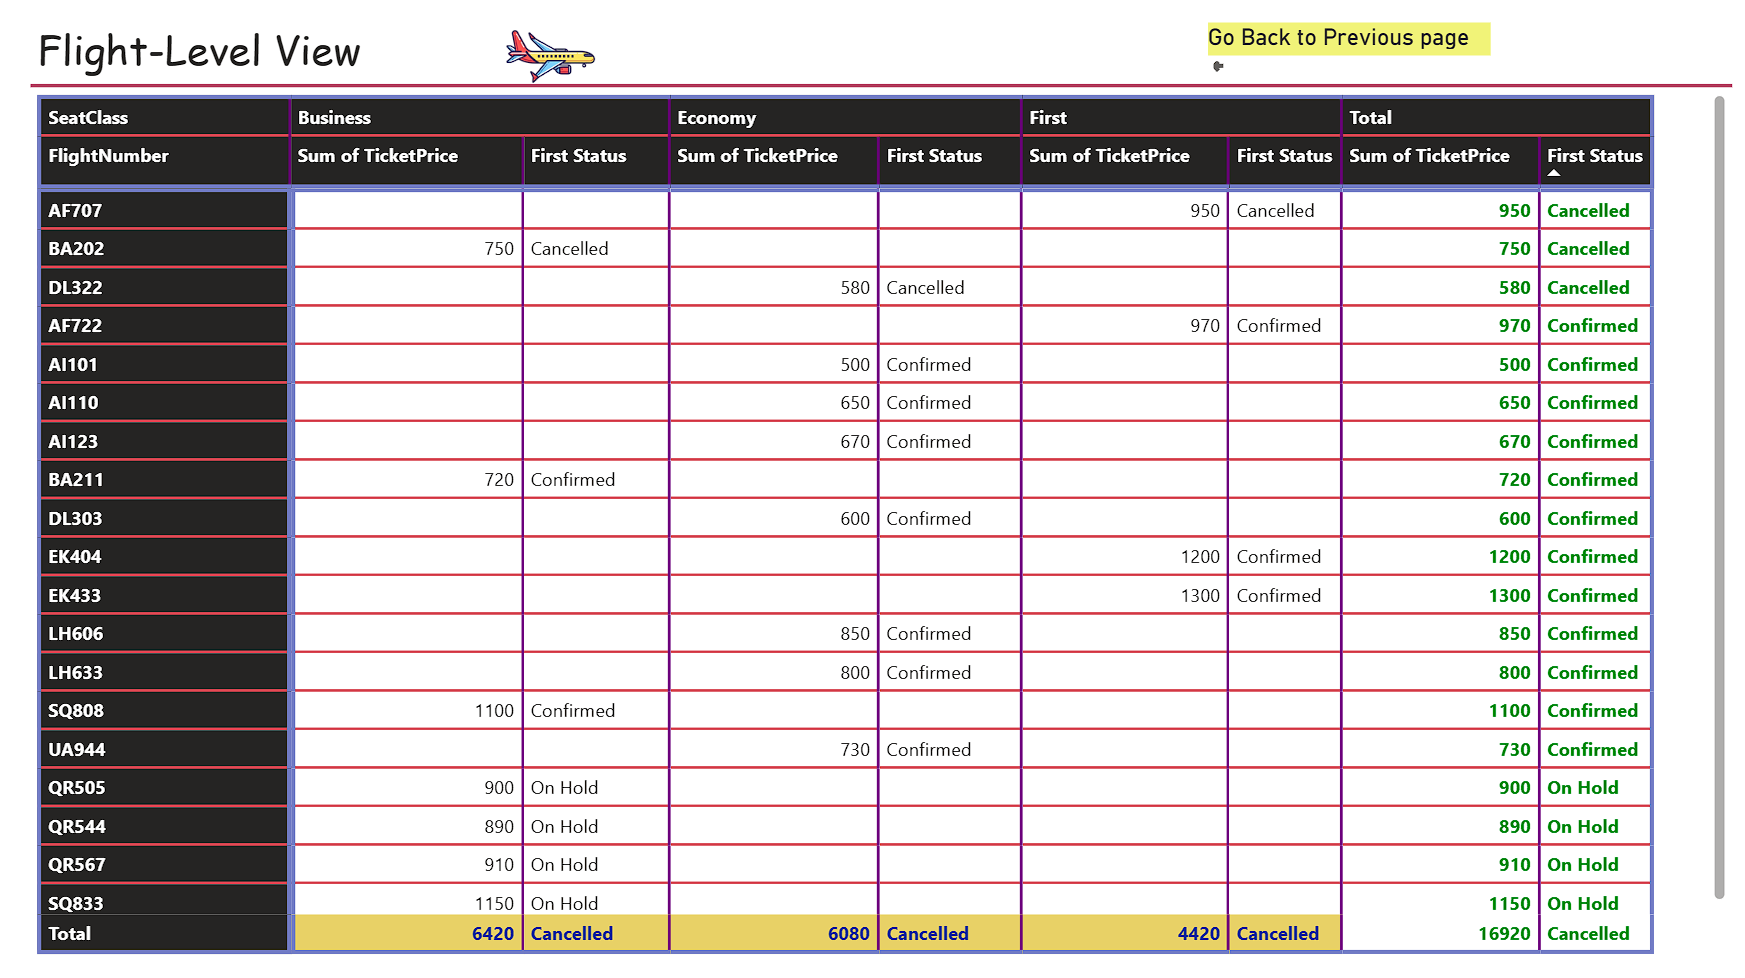

The page's visual inventory and layout, read from the dashboard file:
{"tool":"powerbi","page":{"name":"Flight-Level View-Table","canvas":[1280,720],"ordinal":1},"visuals":[{"type":"pivotTable","title":"Flight-Level View","fields":{"Rows":["airline_passengers_indian(1).FlightNumber"],"Columns":["airline_passengers_indian(1).SeatClass"],"Values":["Sum(airline_passengers_indian(1).TicketPrice)","Min(airline_passengers_indian(1).Status)"]},"box":[13,15.9,1237.9,683.9],"z":0},{"type":"actionButton","title":"Go Back to Previous page","box":[869.5,16.2,205.3,39.8],"z":1000},{"type":"image","box":[257.5,0,268.7,80.9],"z":2000}]}

Visuals, with their boxes in screenshot pixels (x1, y1, x2, y2), scaled from the page's 1280x720 canvas onto the 1745x978 screenshot:
"Flight-Level View" pivotTable: x1=18, y1=22, x2=1705, y2=951
"Go Back to Previous page" actionButton: x1=1185, y1=22, x2=1465, y2=76
image: x1=351, y1=0, x2=717, y2=110
